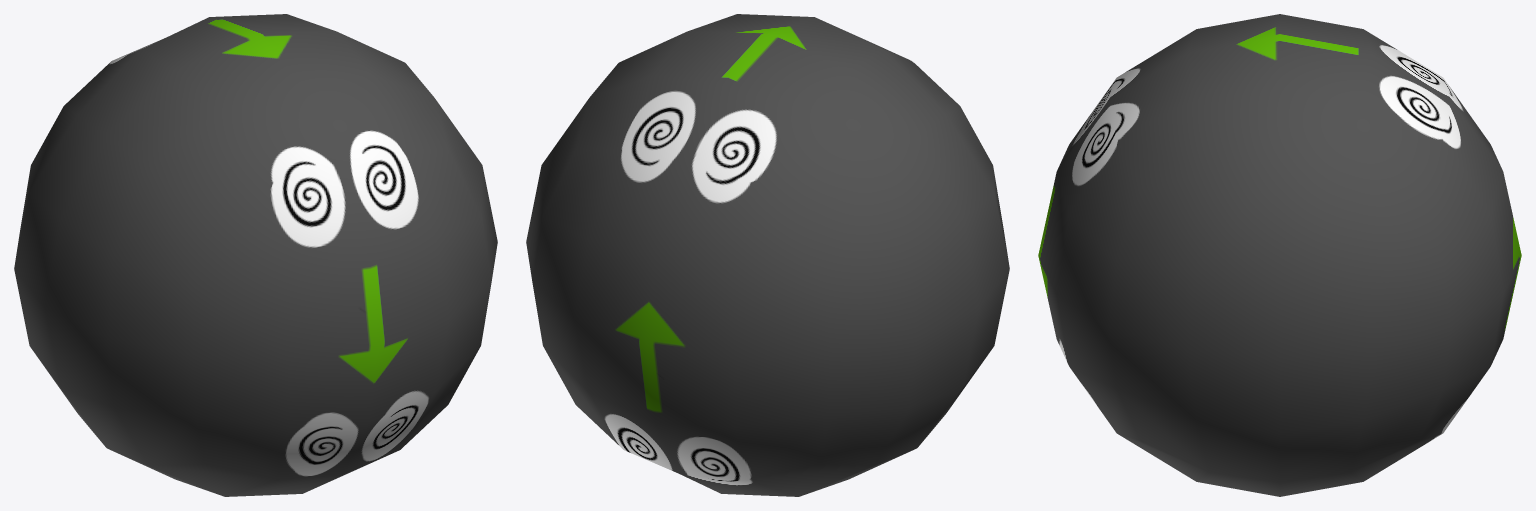
Rendered from Ball.fbx.
3 renders of one model, left to right at view 1: azimuth 30°, elevation 25°; view 2: azimuth 150°, elevation 25°; view 3: azimuth 270°, elevation 25°, orthographic.
Parts seen in each view (by area): view 1: pCube2; view 2: pCube2; view 3: pCube2.
Part boxes in pixels (<box>): pCube2: <box>14,14,497,496</box>; pCube2: <box>526,14,1009,496</box>; pCube2: <box>1038,14,1521,496</box>.
Bounding box in the file's own units: 1 × 1 × 1.
